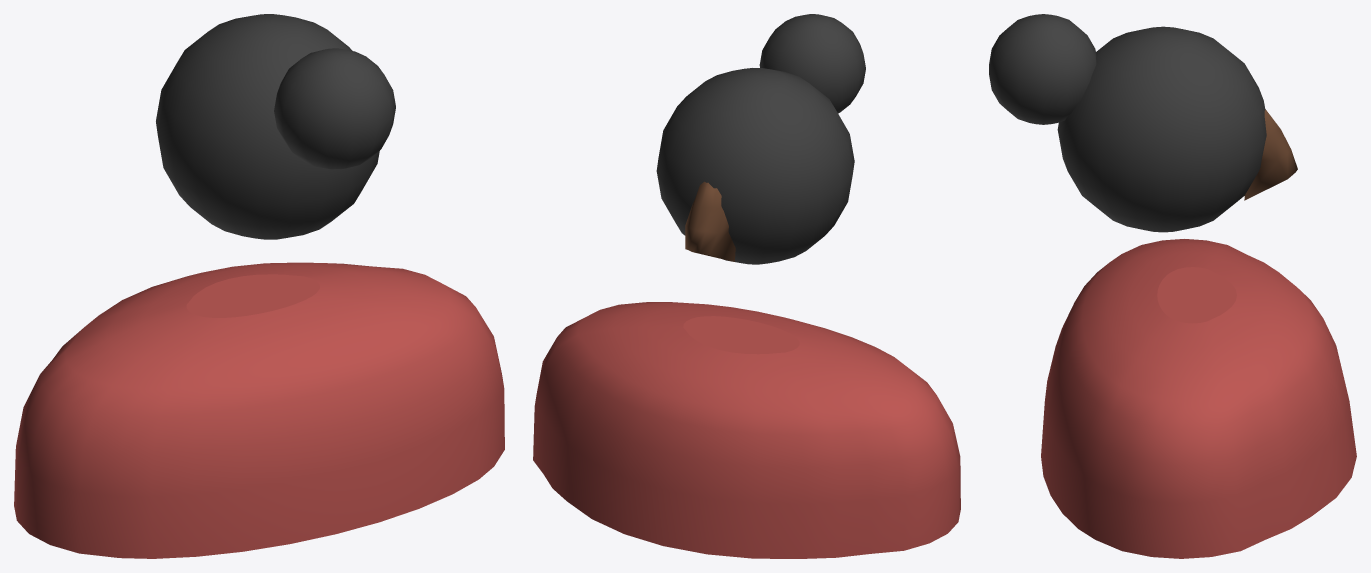
Rendered from PlayerCharacter.fbx.
3 renders of one model, left to right at view 1: azimuth 30°, elevation 25°; view 2: azimuth 150°, elevation 25°; view 3: azimuth 270°, elevation 25°, orthographic. The views are drawn at different scales.
Visible parts, largest first — view 1: pSphere16; view 2: pSphere16; view 3: pSphere16.
Boxes of the visible parts, x1,y1,x2,y2 form: pSphere16: [14, 14, 504, 558]; pSphere16: [533, 14, 960, 558]; pSphere16: [989, 14, 1356, 558].
Bounding box in the file's own units: 1.65 × 1.64 × 1.25.
